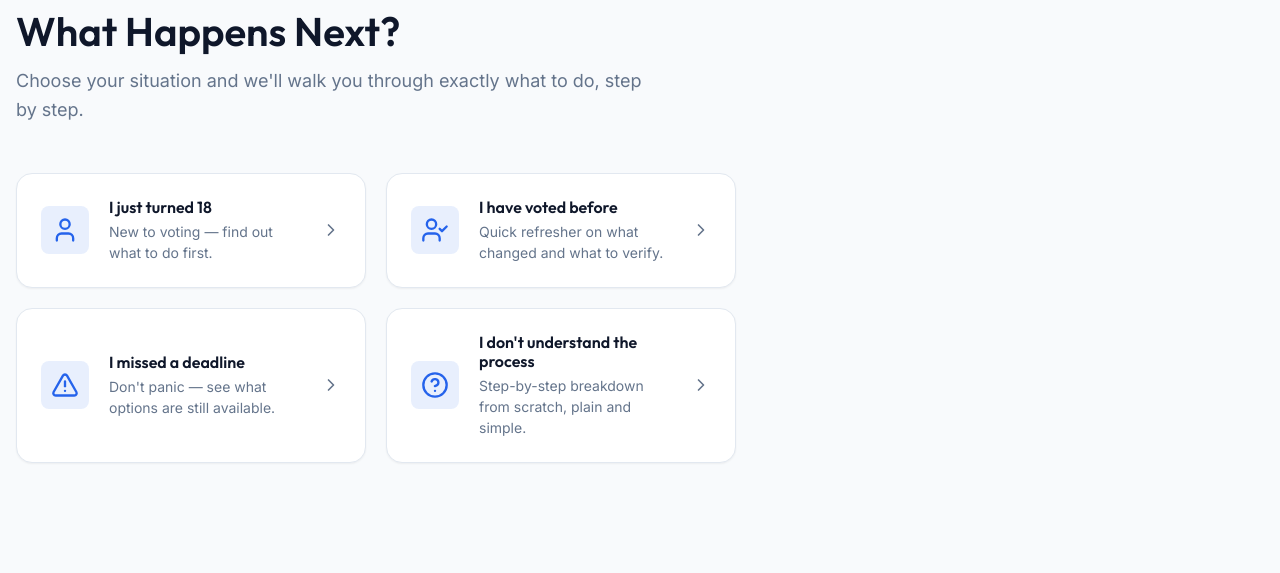
Test: Guide Page › switches to "Missed Deadline" scenario
What coordinates should you click on to do the following:
click the button "I missed a deadline"
I would click on:
 (191, 386)
Its box is [16,308,366,463].
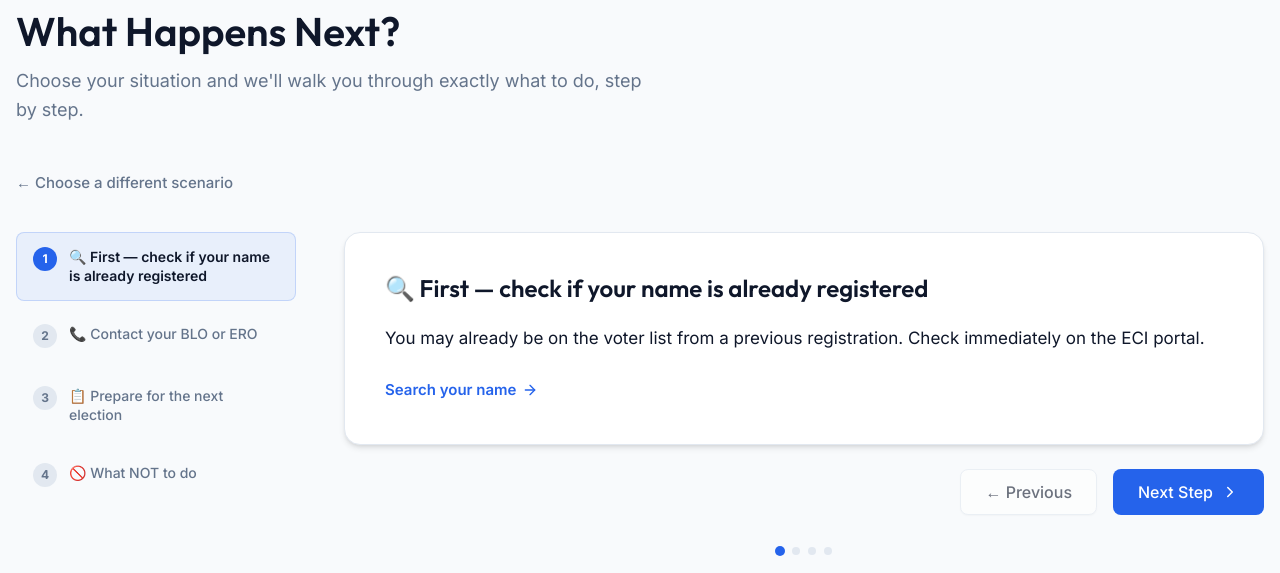
Now the text "🔍 First — check if your name is already registered" is shown, box [69,247,279,286]
